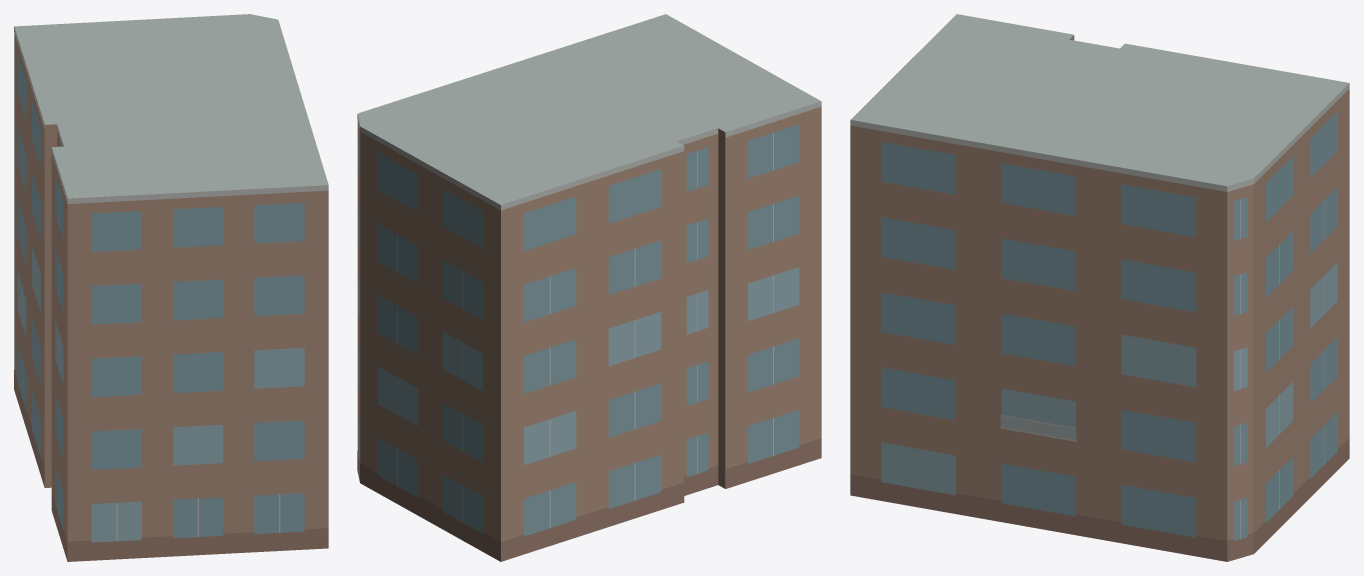
The model's file is survey-upis-32489245.glb.
3 renders of one model, left to right at view 1: azimuth 30°, elevation 25°; view 2: azimuth 150°, elevation 25°; view 3: azimuth 270°, elevation 25°, orthographic. The views are drawn at different scales.
Parts seen in each view (by area): view 1: survey-upis-32489245.tmp; view 2: survey-upis-32489245.tmp; view 3: survey-upis-32489245.tmp.
Part boxes in pixels (bbox=[...]): survey-upis-32489245.tmp: bbox=[14, 14, 328, 561]; survey-upis-32489245.tmp: bbox=[357, 14, 821, 561]; survey-upis-32489245.tmp: bbox=[850, 14, 1349, 561].
Size of the model in its own units: 15.95 by 16.2 by 19.52.
